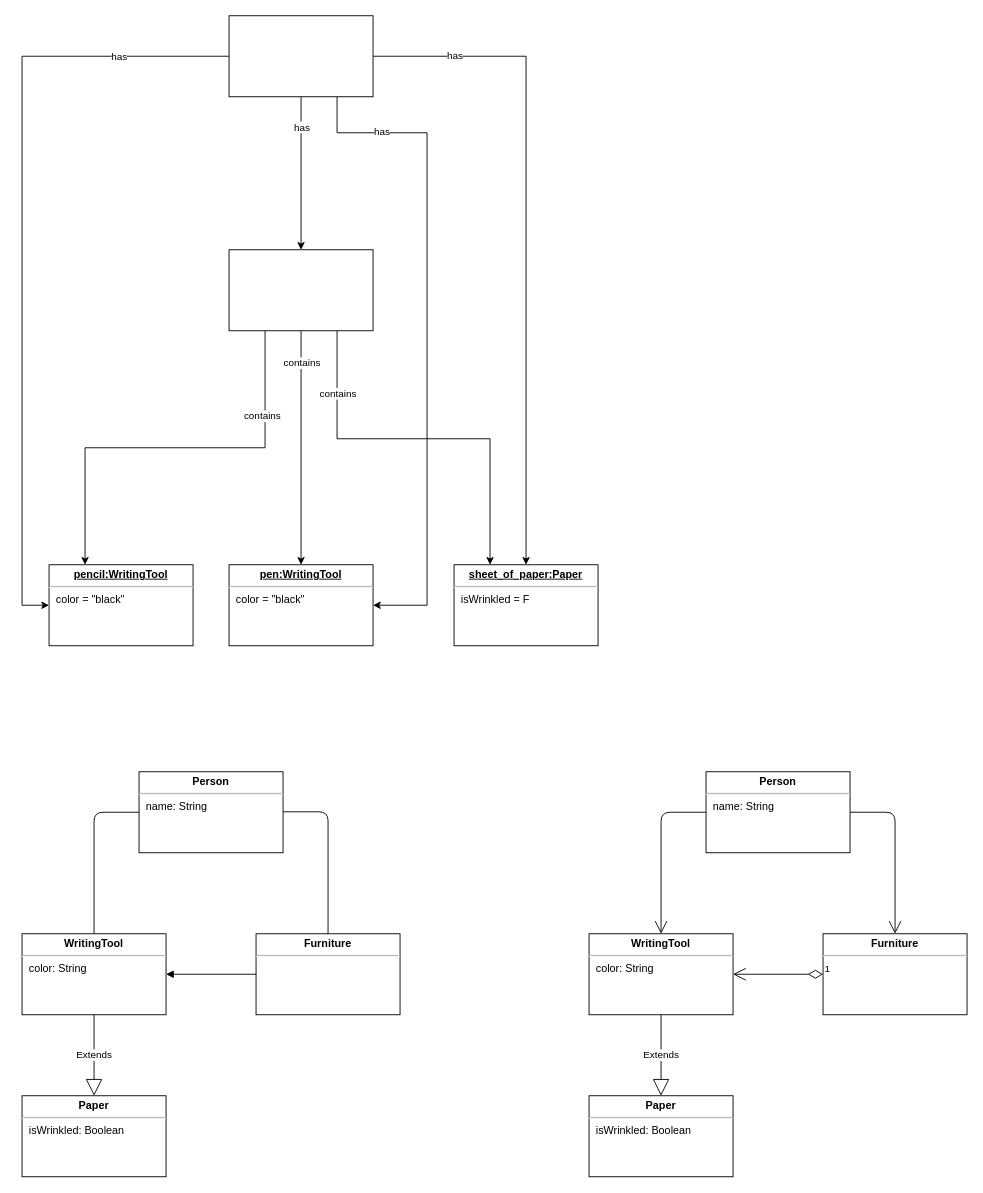
Some shapes in this 983 by 1193 pixel diagram are drawn without their labels. The shapes that lost their labels are listed below. From the top down, each one's centre as x and y in pixels, then its label:
At pixel 300 56: "paul:Person".
At pixel 300 290: "table:Furniture".
